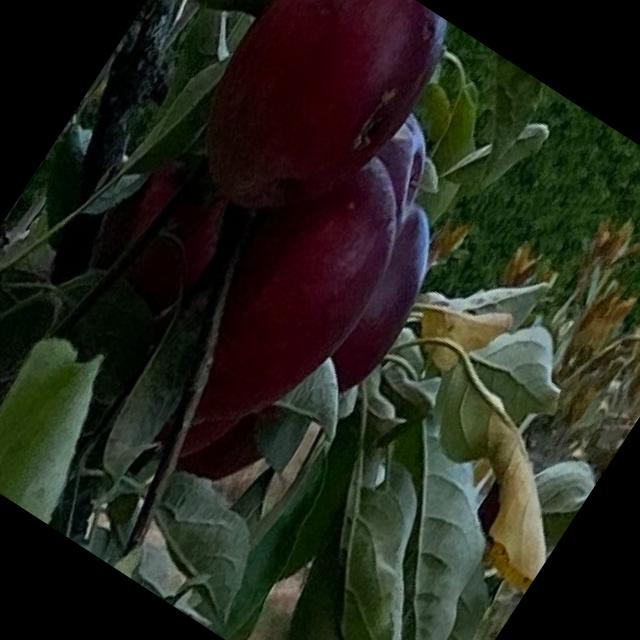Apples: (171, 122, 439, 432), (165, 0, 465, 261), (310, 202, 468, 400), (344, 111, 456, 236)
